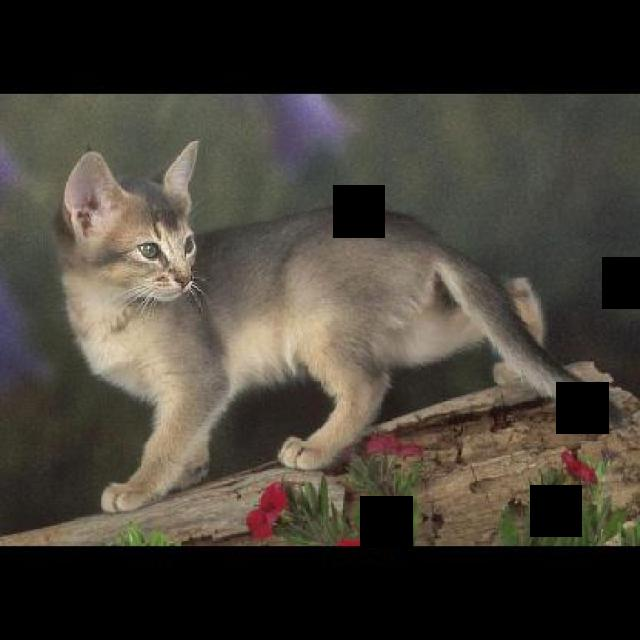unauthorized: (50, 137, 628, 514)
